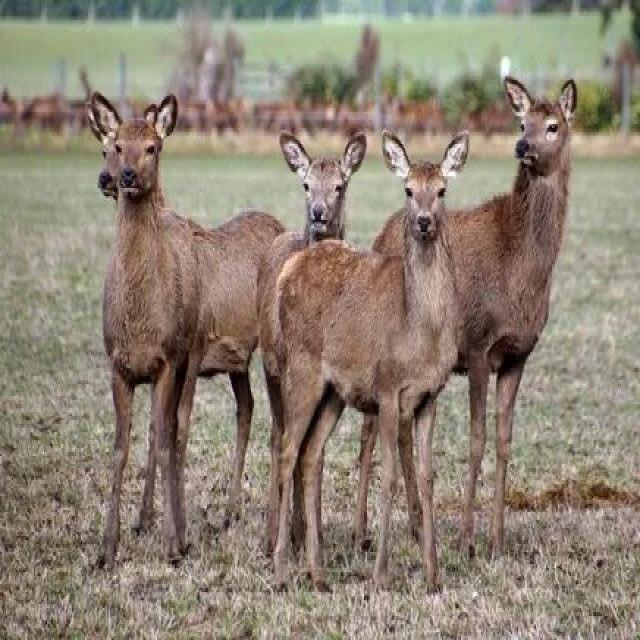deer: (48, 72, 346, 532)
